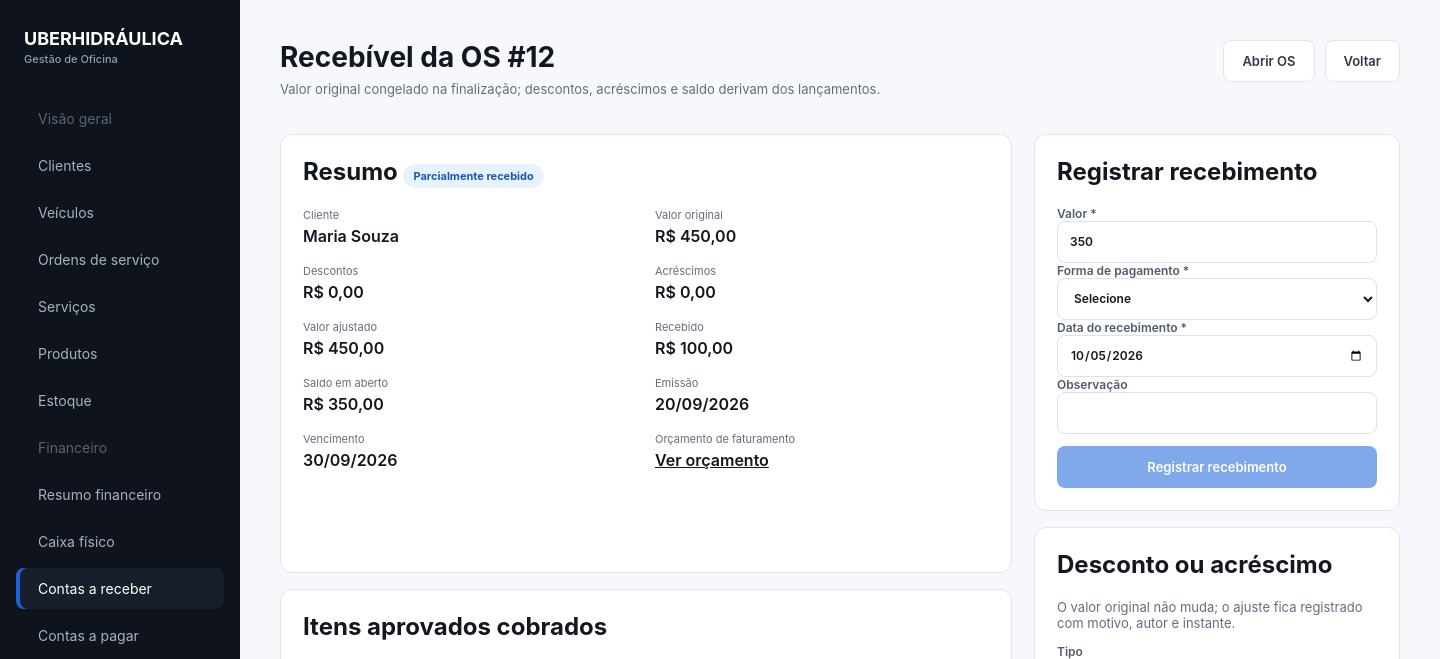
valor acima do saldo não pode ser enviado
Replace the text in the number field labelled "Valor *" with "350.01": (1217, 242) x1=1057 y1=221 x2=1377 y2=263
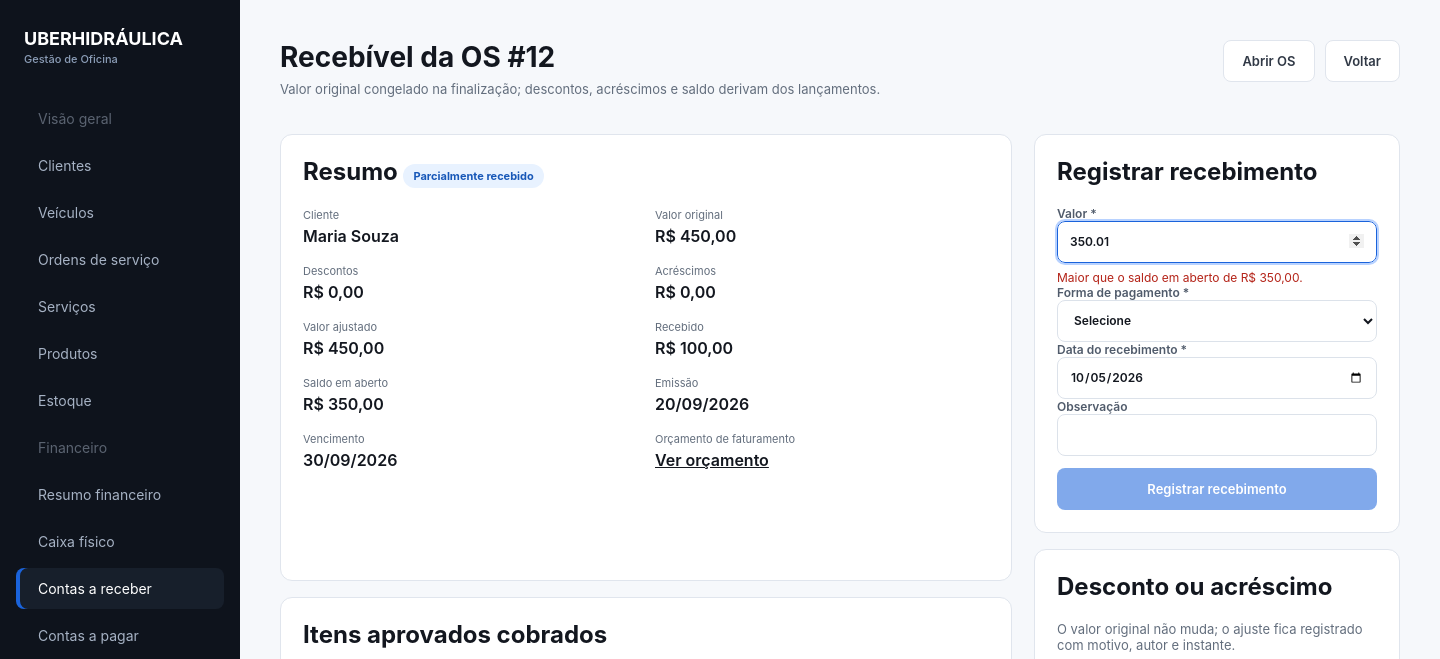
Expected: the button "Registrar recebimento" is disabled, x1=1057 y1=468 x2=1377 y2=510
Expected: the text "Maior que o saldo em aberto de R$ 350,00." is shown, x1=1057 y1=270 x2=1303 y2=285
